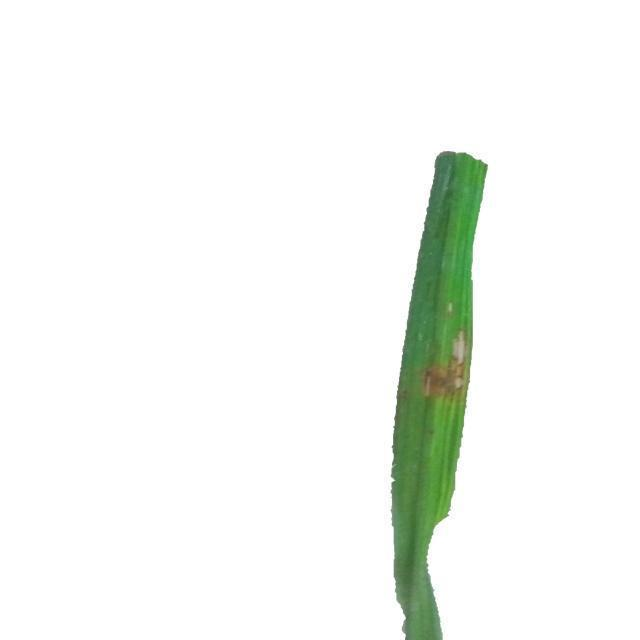Leaf_Blast: (432, 334, 473, 409)
